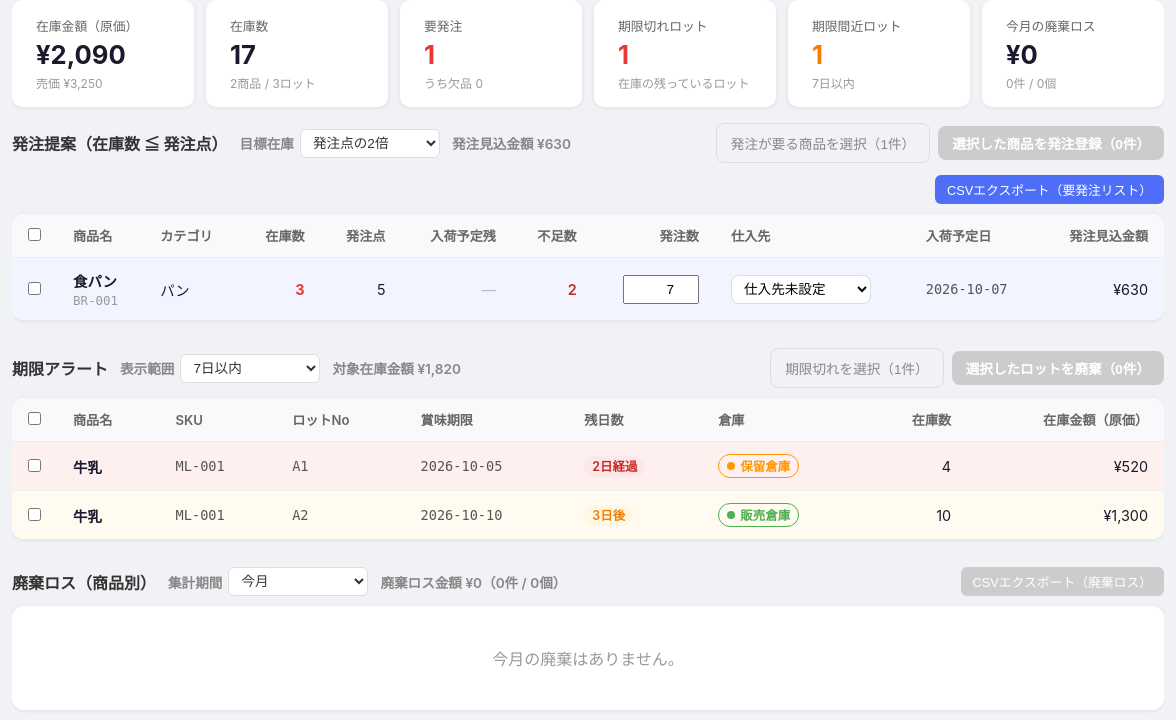
Scenario: DashboardView › 目標在庫の倍率を変えると推奨発注数が変わる
Select "発注点の1倍" in the dropdown labelled "目標在庫": (370, 143) [300, 128, 440, 158]
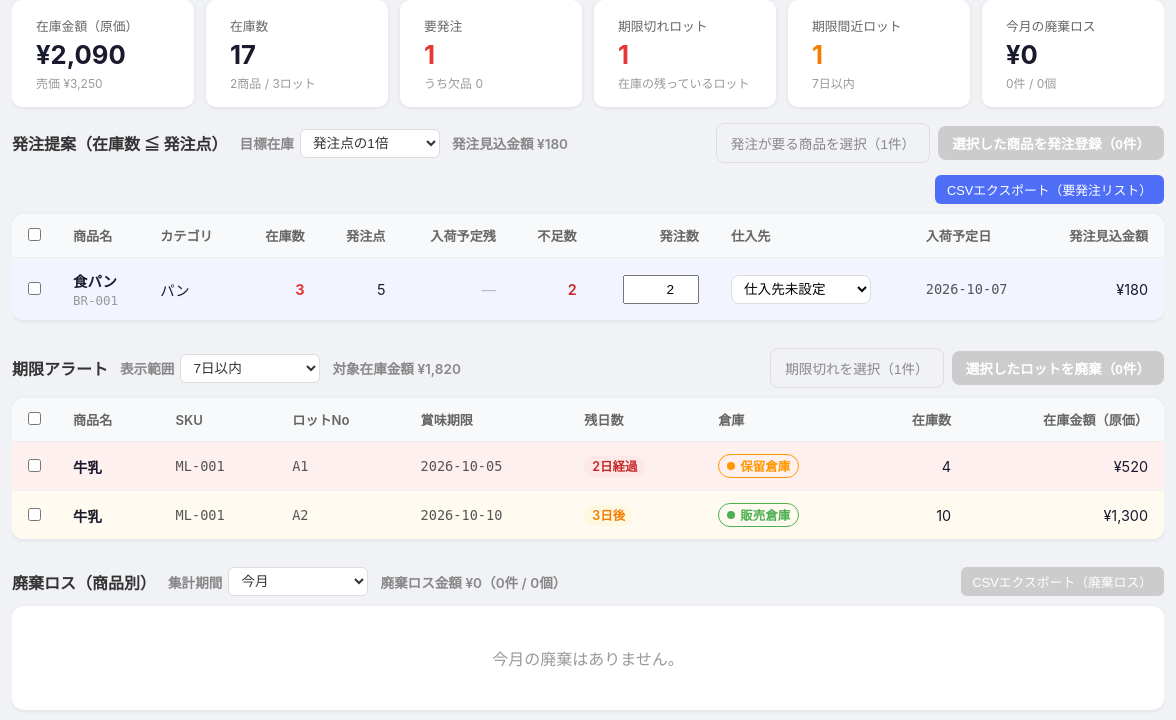
Check: the number field named "食パンの発注数" holds "2", box [623, 274, 699, 304]
